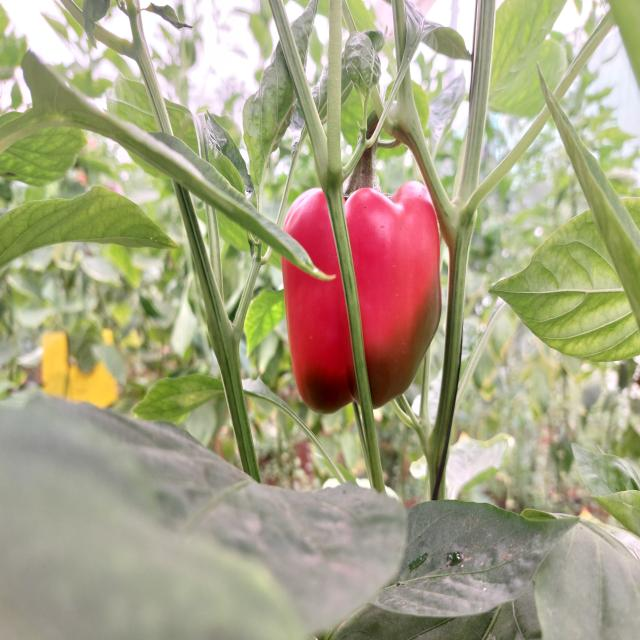Red-Ready-to-Harvest: (281, 179, 445, 421)
